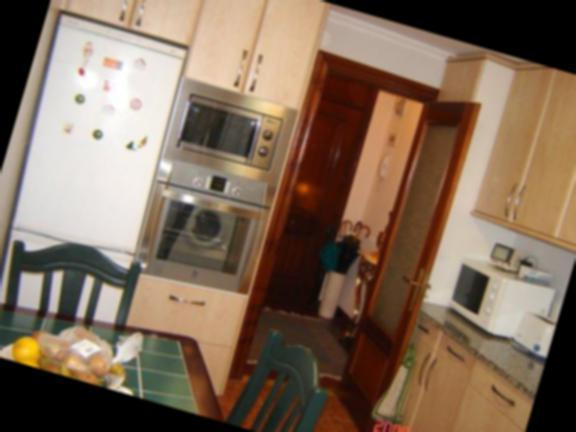Electrodomestico: (0, 16, 197, 318), (131, 79, 300, 298)
Puerta: (335, 98, 478, 432)
